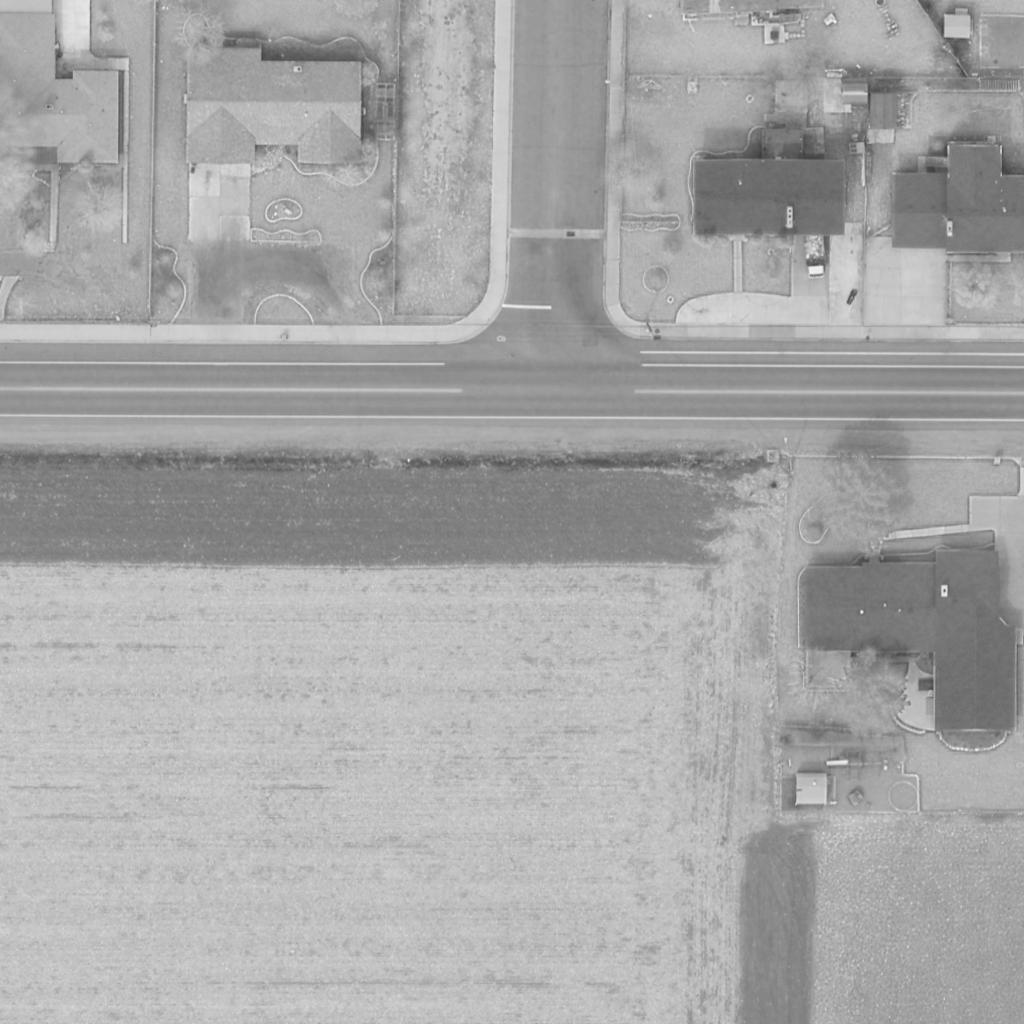vehicle: (803, 223, 827, 279)
